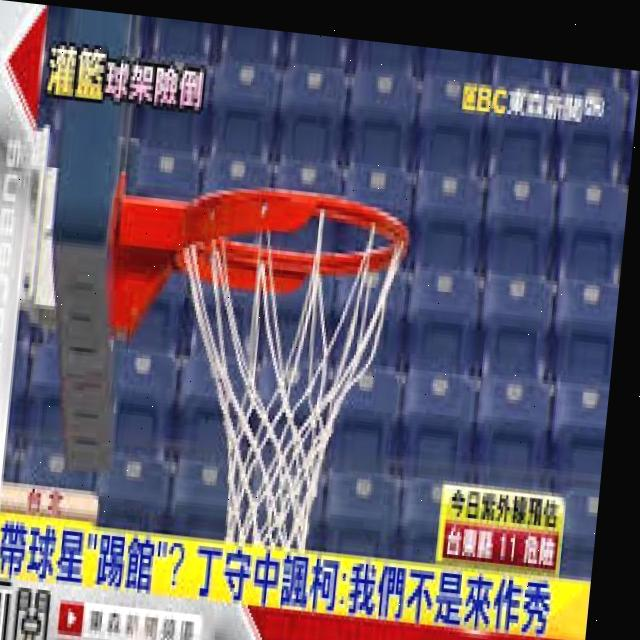hoop: (80, 164, 432, 566)
